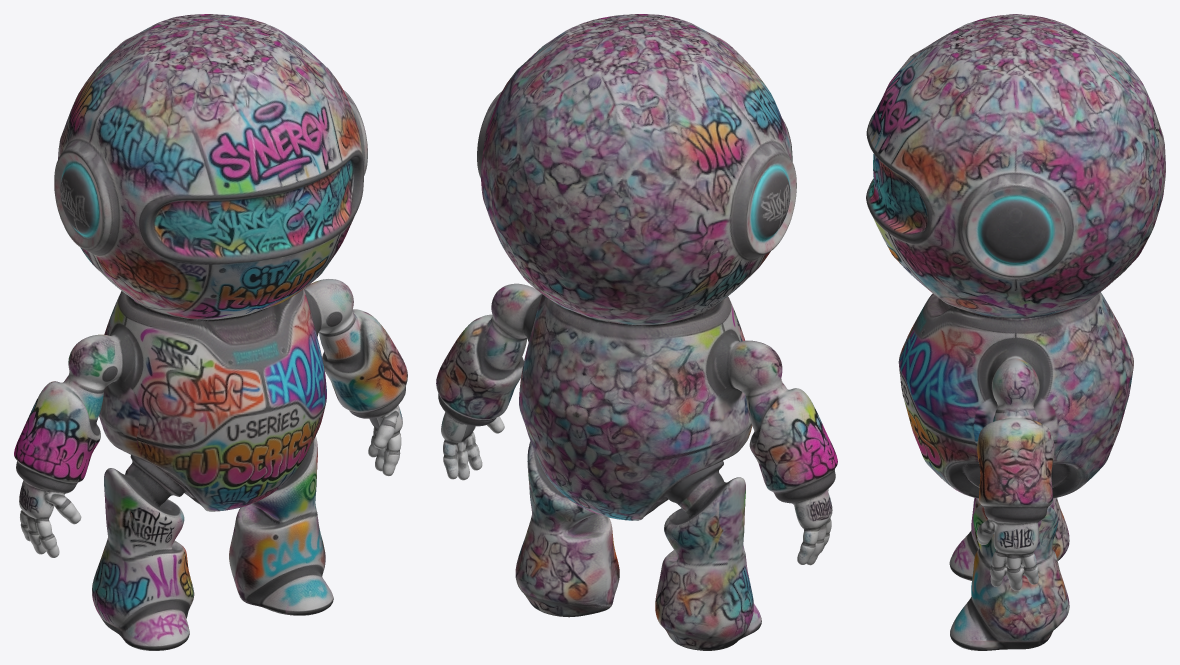
The model's file is Meshy_AI_Graffiti_Bot_0828212914_texture.glb.
The picture shows the model from 3 angles, left to right: view 1: azimuth 30°, elevation 25°; view 2: azimuth 150°, elevation 25°; view 3: azimuth 270°, elevation 25°; orthographic projection. The views are drawn at different scales.
Parts seen in each view (by area): view 1: mesh_node; view 2: mesh_node; view 3: mesh_node.
Boxes of the visible parts, x1,y1,x2,y2 form: mesh_node: [14, 14, 407, 650]; mesh_node: [436, 14, 837, 650]; mesh_node: [866, 14, 1165, 650].
Bounding box in the file's own units: 1.32 × 1.9 × 0.9.
Materials: 1 (1 with a texture image).
